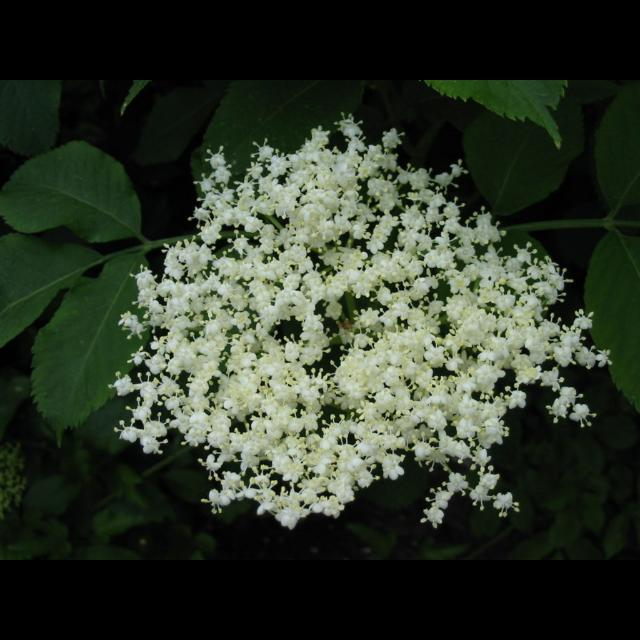Flower: (90, 80, 606, 524)
